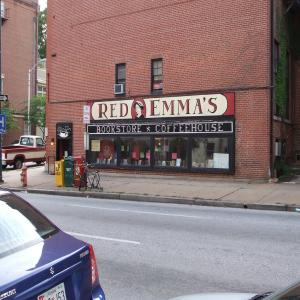Vehicle-registration-plate: (36, 284, 67, 300)
